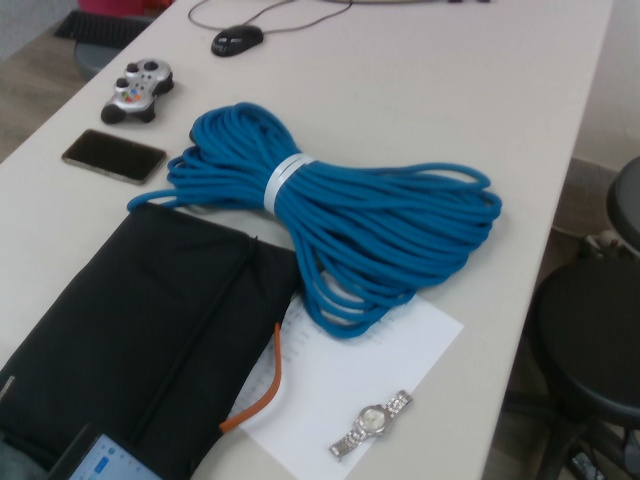rope: (123, 99, 507, 344)
